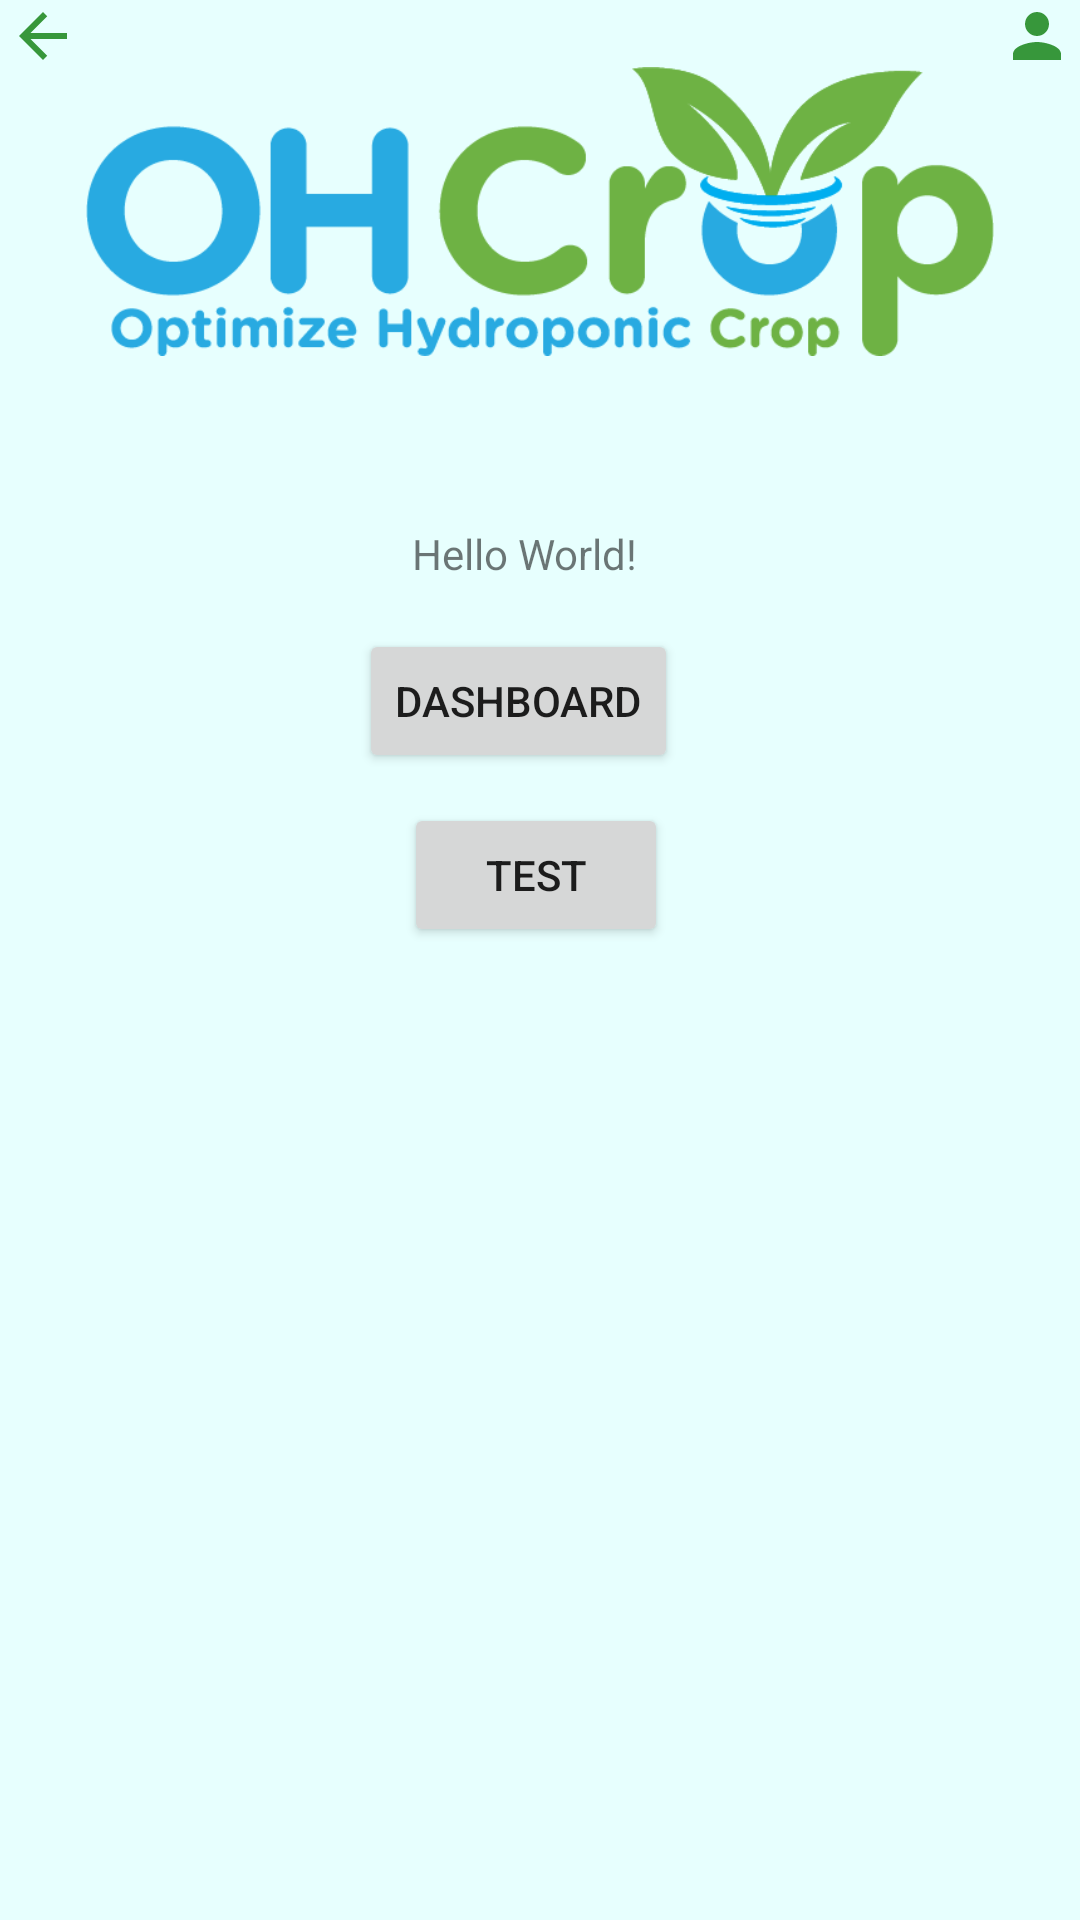

Where to tap for icons on this 1080px×1920px app screen, as point (x, y):
arrow back: point (43, 36)
person: point (1037, 36)
